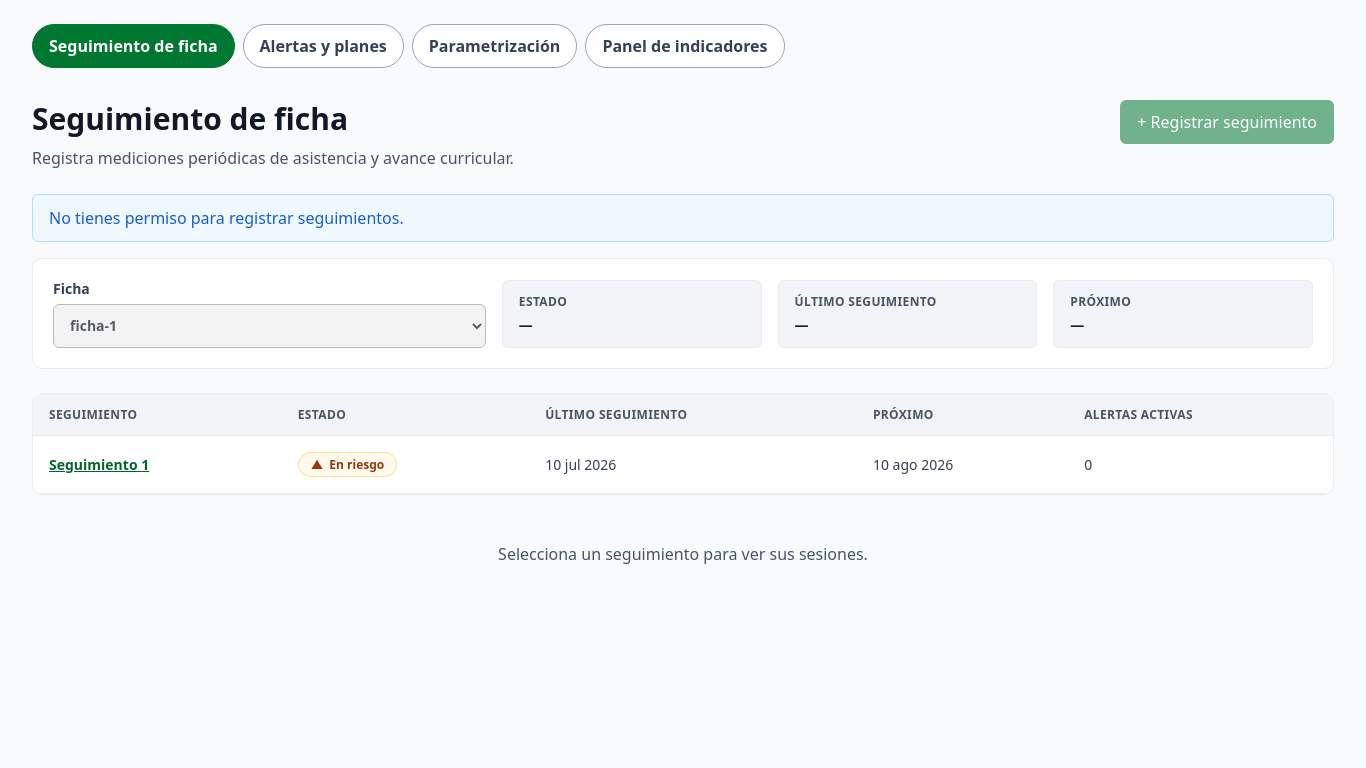
Scenario: HU-MON-007 devolucion de QA › 4. permisos › sin la capacidad MON_TRACKING_SESSION_CREATE deshabilita el registro y explica por que
Click the button with aria-label "Abrir seguimiento 1" at (99, 464), box [49,454,149,474]
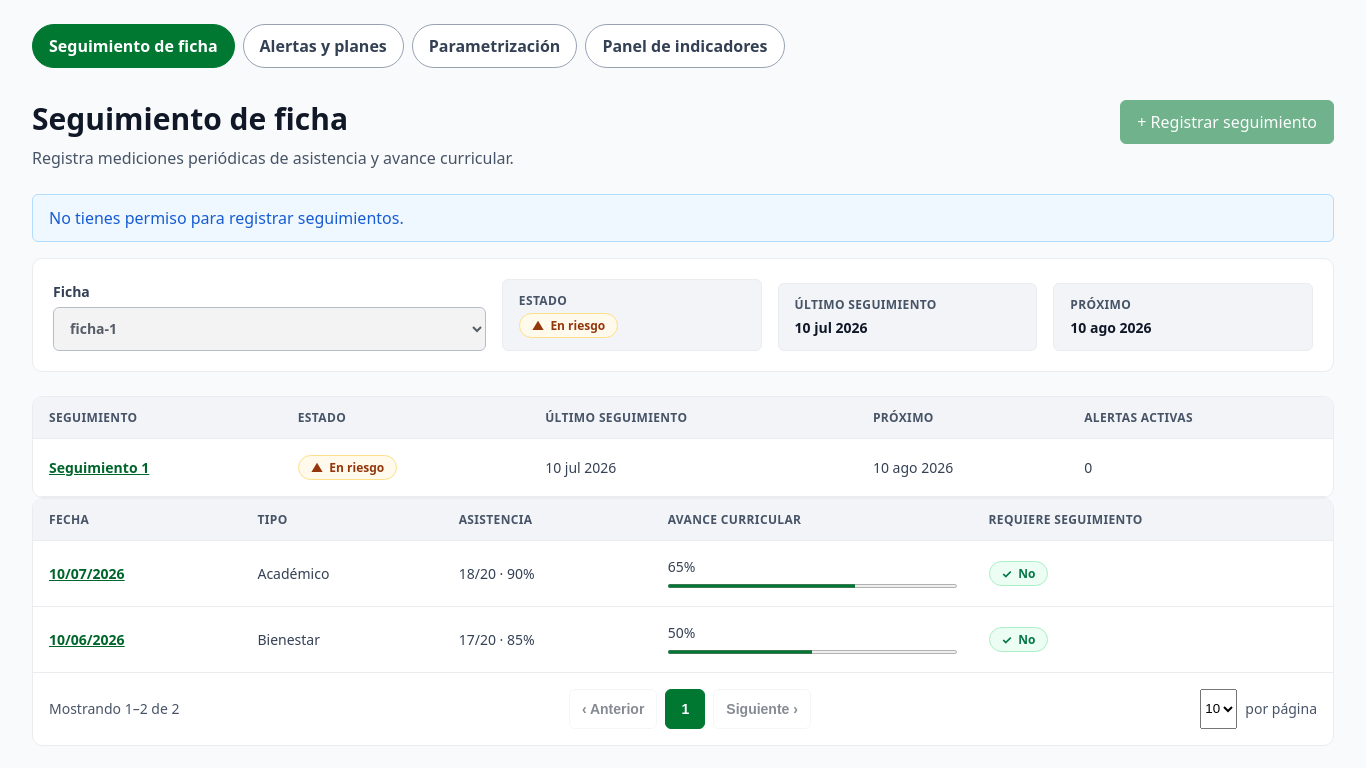
Check: the button "+ Registrar seguimiento" is disabled, box [1120,100,1334,144]
Check: the text "Académico" is shown, box [242,540,443,606]
